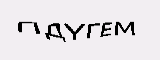Б: (103, 9, 121, 34)
Е: (71, 16, 82, 34)
К: (40, 27, 57, 44)
Ф: (57, 20, 71, 43)
Я: (84, 11, 99, 35)
